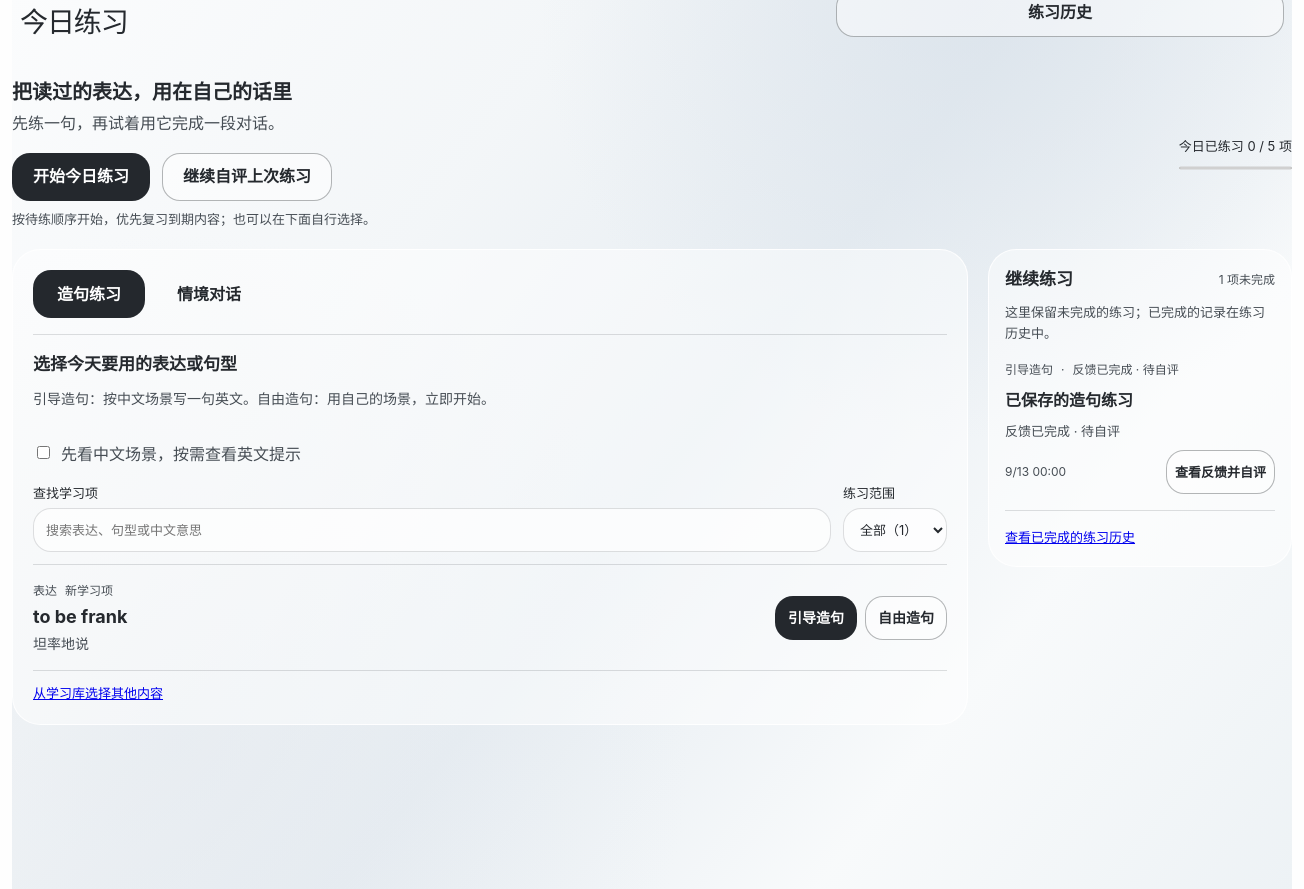
keeps saved feedback when teaching read fails and offers only a GET retry
The image size is (1304, 889).
Click the button "查看反馈并自评". click: (1220, 472)
box: [1166,450,1275,494]
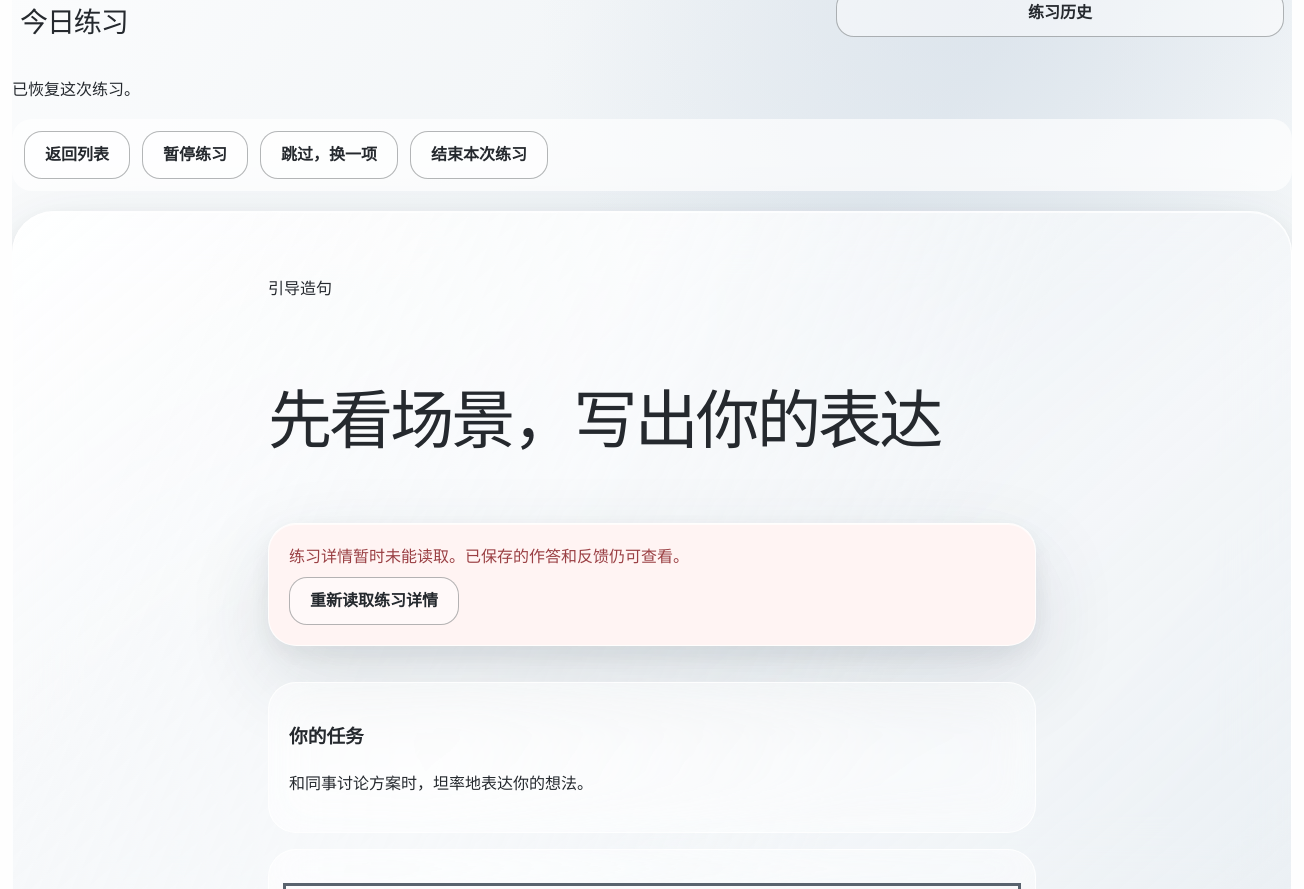
Check: the text "重新读取练习详情" is shown
Click the button "重新读取练习详情". click: (374, 601)
box: [289,577,459,625]
(page scrolled)
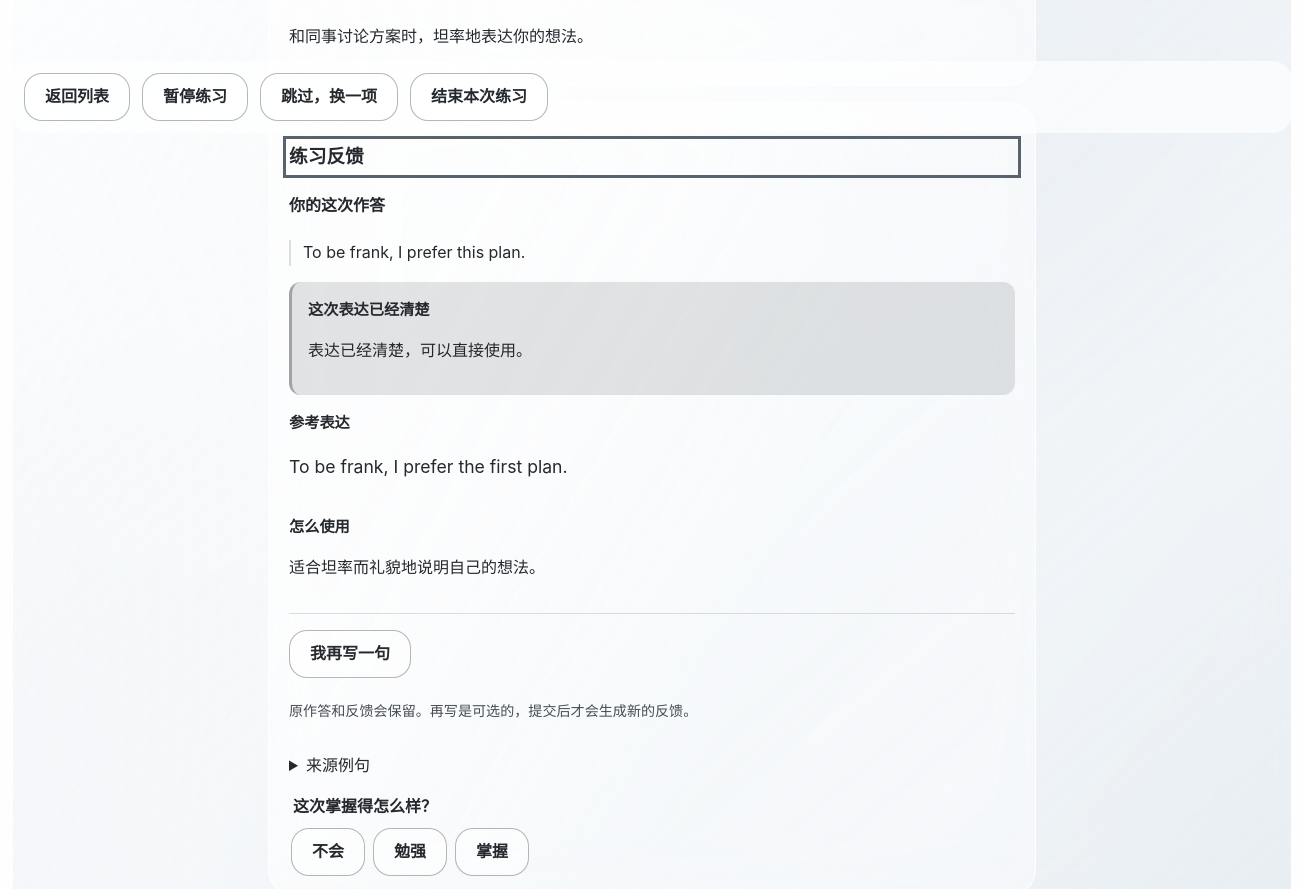
Check: the element that starts with "这次表达已经清楚" is shown, box [289,282,1015,597]
